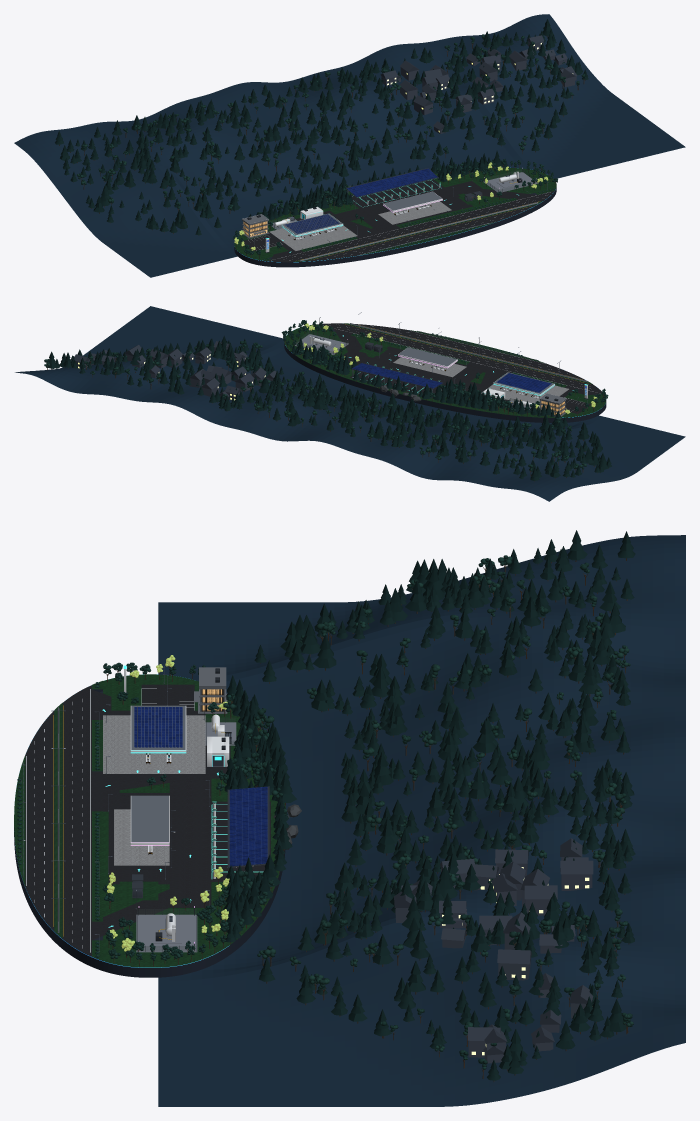
File: station.glb
3 renders of one model, top to bottom at view 1: azimuth 30°, elevation 25°; view 2: azimuth 150°, elevation 25°; view 3: azimuth 270°, elevation 25°, orthographic. The views are drawn at different scales.
Parts seen in each view (by area): view 1: backdrop, ground, base_wall, carport_pv, canopy_fuel_frame, canopy_lng_frame, road_barrier, canopy_fuel_pv; view 2: backdrop, ground, base_wall, carport_pv, canopy_lng_frame, road_barrier, canopy_fuel_pv; view 3: backdrop, ground, carport_pv, base_wall, canopy_lng_frame, canopy_fuel_pv, canopy_fuel_frame, office_body, house_07, house_26.
Boxes of the visible parts, x1,y1,x2,y2 form: backdrop: (14, 14, 685, 277); ground: (234, 167, 556, 262); base_wall: (234, 187, 556, 267); carport_pv: (347, 168, 437, 196); canopy_fuel_frame: (281, 213, 343, 238); canopy_lng_frame: (383, 191, 442, 214); road_barrier: (300, 202, 538, 261); canopy_fuel_pv: (285, 214, 339, 233); backdrop: (15, 306, 685, 501); ground: (284, 323, 606, 417); base_wall: (284, 323, 606, 422); carport_pv: (352, 363, 442, 388); canopy_lng_frame: (398, 347, 457, 370); road_barrier: (350, 323, 588, 382); canopy_fuel_pv: (496, 373, 551, 392); backdrop: (158, 535, 685, 1106); ground: (14, 674, 286, 967); carport_pv: (229, 786, 267, 866); base_wall: (14, 689, 285, 977); canopy_lng_frame: (130, 795, 169, 852); canopy_fuel_pv: (134, 707, 182, 747); canopy_fuel_frame: (130, 705, 186, 758); office_body: (194, 667, 227, 713); house_07: (560, 860, 593, 890); house_26: (497, 949, 531, 980).
Size of the model in its own units: 430 by 41.55 by 242.
56 materials, 17 textured.
